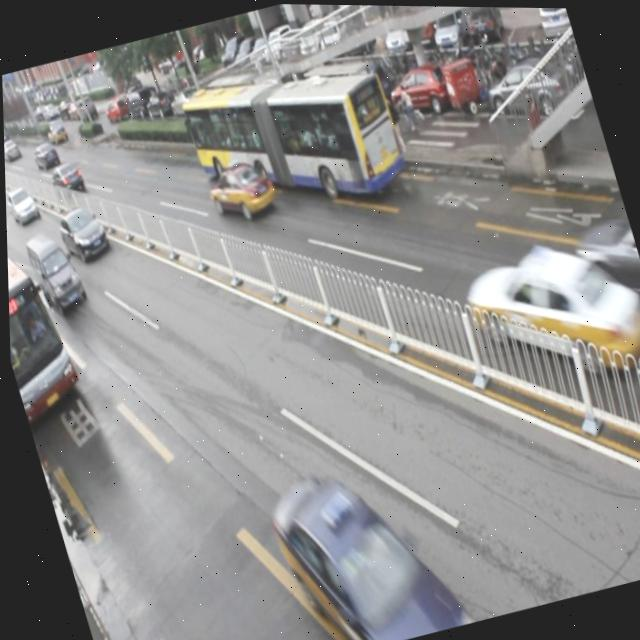car: (255, 441, 467, 640), (454, 222, 640, 396), (199, 151, 280, 226), (52, 201, 112, 265), (46, 158, 86, 198), (4, 183, 40, 227)
truck: (19, 222, 87, 318)
van: (174, 39, 412, 238), (5, 219, 87, 428)
